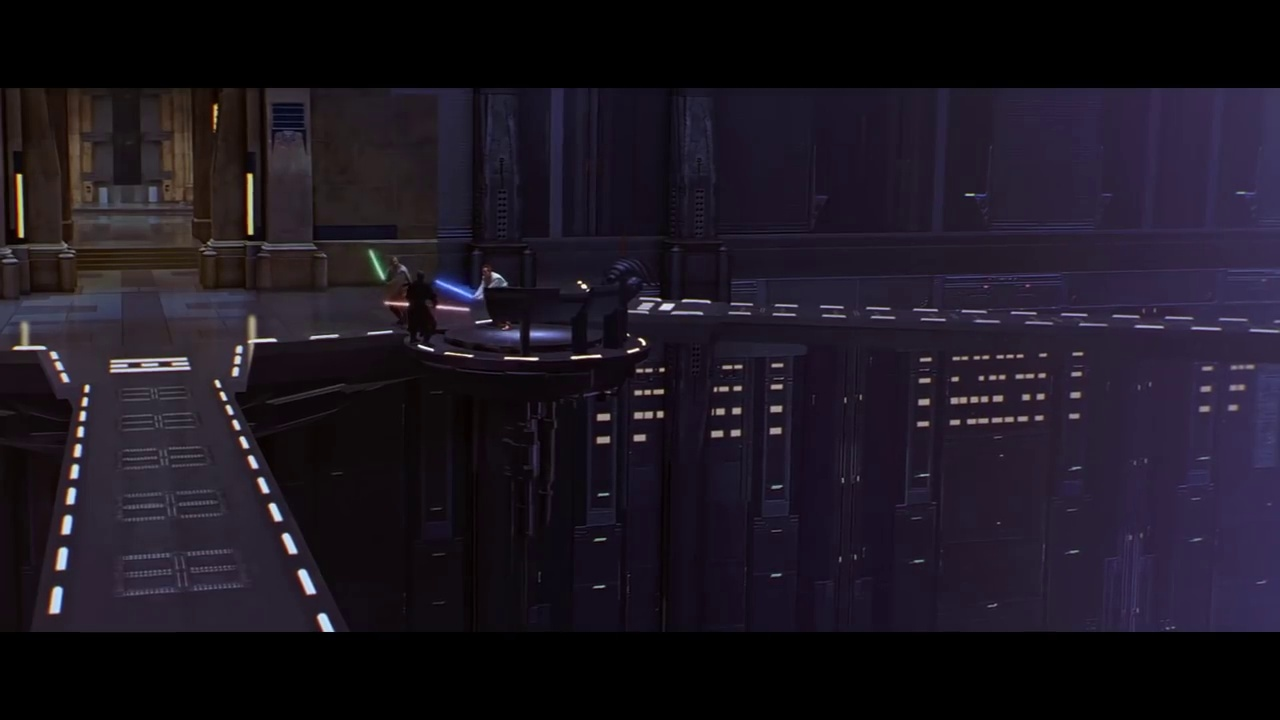lightsaber: (430, 275, 485, 302), (382, 299, 477, 314), (366, 248, 389, 282)
